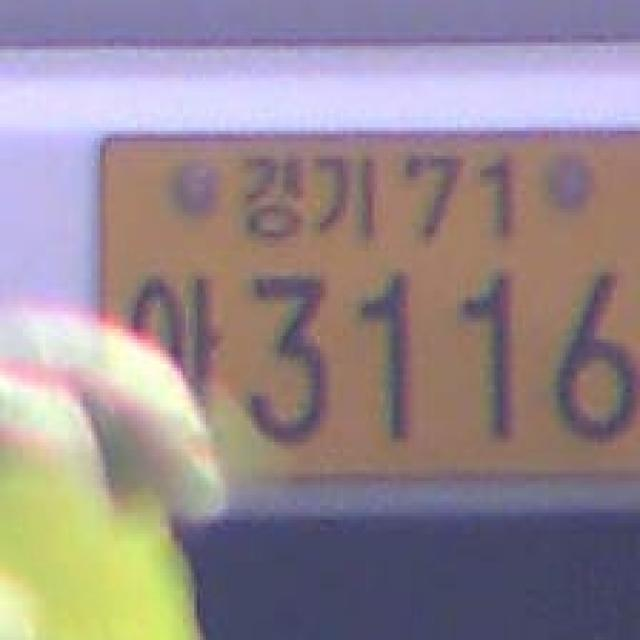plat: (94, 126, 638, 498)
